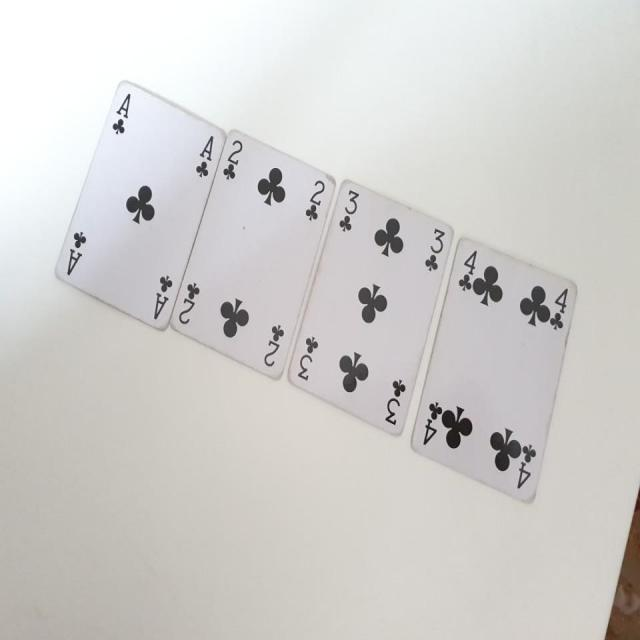2 Trefoils: (169, 129, 336, 382)
3 Trefoils: (286, 179, 456, 438)
4 Trefoils: (409, 237, 578, 504)
A Trefoils: (51, 77, 226, 330)
